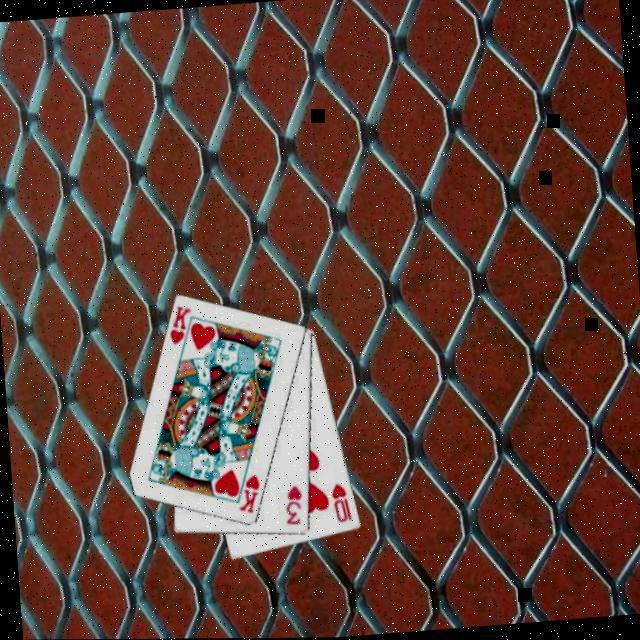10H: (326, 482, 353, 528)
3H: (279, 485, 304, 530)
KH: (162, 304, 194, 350), (231, 473, 262, 519)
